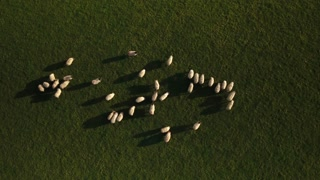sheep: (226, 90, 236, 101), (163, 131, 172, 143), (104, 91, 114, 101), (192, 121, 202, 131), (110, 112, 118, 124), (60, 79, 70, 88), (91, 77, 102, 85), (160, 126, 171, 134), (208, 76, 216, 87), (166, 55, 173, 67), (187, 82, 194, 94), (214, 82, 221, 94), (65, 57, 74, 66), (53, 88, 61, 98), (107, 110, 115, 120), (135, 95, 145, 103), (161, 91, 169, 101), (227, 100, 235, 110), (117, 112, 124, 123), (129, 104, 136, 115), (154, 79, 161, 90), (199, 73, 206, 84), (138, 69, 146, 78), (194, 72, 200, 84), (152, 91, 159, 101), (128, 50, 138, 57), (188, 69, 195, 79), (227, 80, 234, 90), (149, 104, 155, 115), (37, 84, 44, 93), (51, 79, 58, 88), (221, 80, 227, 90), (42, 82, 50, 88), (49, 73, 54, 80)
